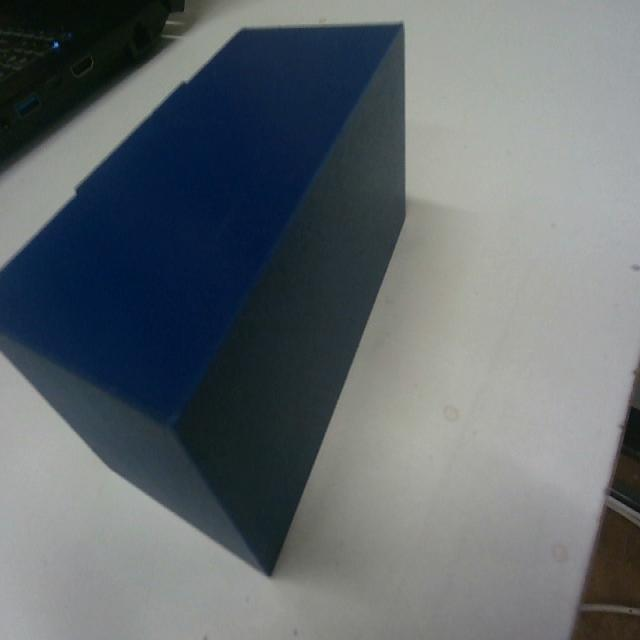Blue Cuboid: (0, 17, 409, 576)
